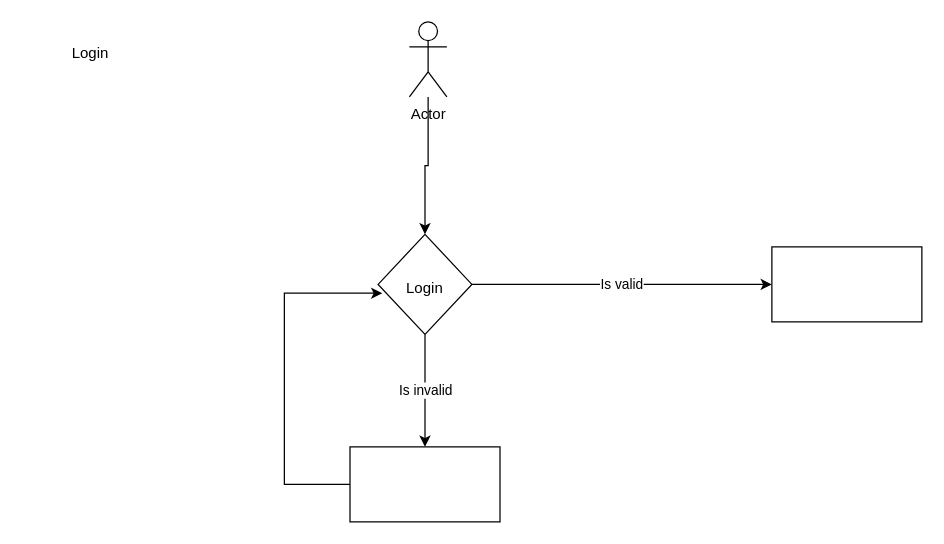
Some shapes in this 944 by 544 pixel diagram are drawn without their labels. Each missing label, with the box of its shape:
Return to home page: (771, 246, 922, 322)
Wrong username or password: (349, 446, 500, 522)
